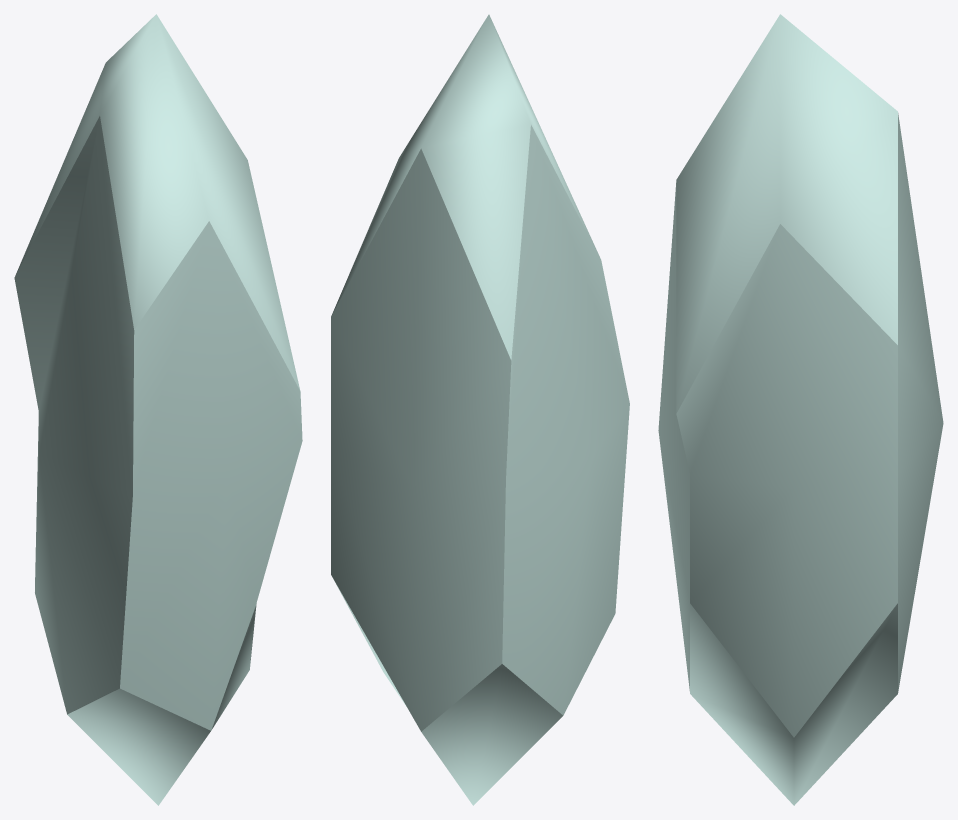
File: Small.fbx
3 renders of one model, left to right at view 1: azimuth 30°, elevation 25°; view 2: azimuth 150°, elevation 25°; view 3: azimuth 270°, elevation 25°, orthographic.
Parts seen in each view (by area): view 1: Small; view 2: Small; view 3: Small.
Part boxes in pixels (x1,y1,x2,y2): Small: (14, 14, 302, 805); Small: (331, 14, 629, 805); Small: (658, 14, 943, 805).
Size of the model in its own units: 0.7846 by 2.51 by 0.8247.
